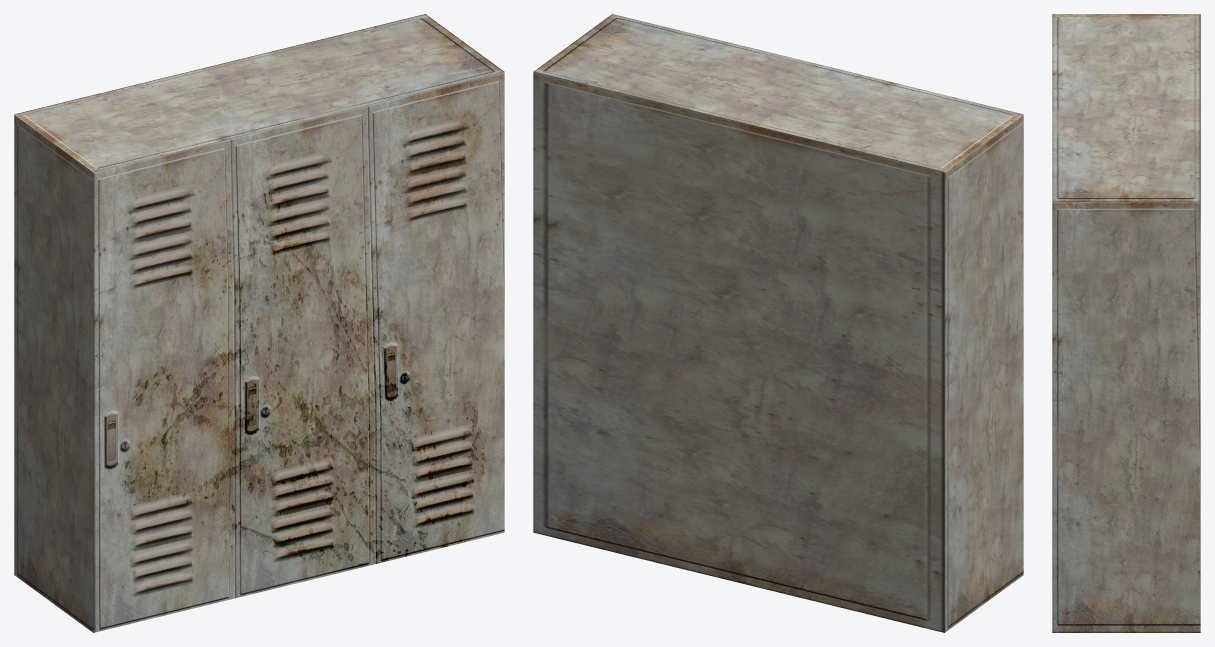
Rendered from cabinet.fbx.
The picture shows the model from 3 angles, left to right: view 1: azimuth 30°, elevation 25°; view 2: azimuth 150°, elevation 25°; view 3: azimuth 270°, elevation 25°; orthographic projection. The views are drawn at different scales.
Visible parts, largest first — view 1: Cube.1; view 2: Cube.1; view 3: Cube.1.
Boxes of the visible parts, x1,y1,x2,y2 form: Cube.1: [14, 14, 504, 632]; Cube.1: [533, 14, 1023, 632]; Cube.1: [1052, 14, 1200, 632].
Bounding box in the file's own units: 158 × 169 × 52.68.
